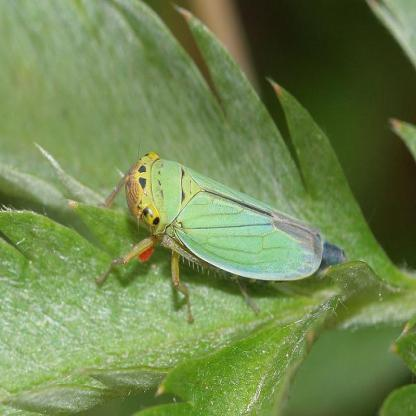Green-Leafhopper: (85, 142, 328, 315)
